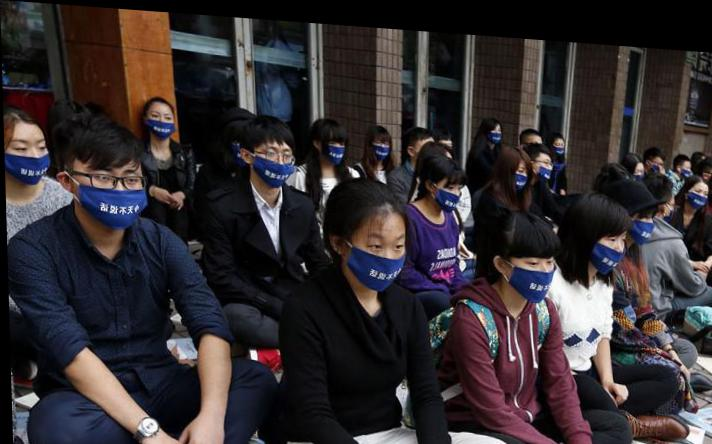OK: (85, 161, 149, 227), (349, 224, 408, 285), (503, 238, 557, 294), (6, 132, 51, 185), (628, 196, 656, 235), (435, 171, 464, 208), (148, 106, 176, 137), (510, 156, 531, 186), (323, 135, 347, 160), (686, 173, 709, 198), (372, 133, 391, 158), (678, 150, 693, 170), (650, 148, 664, 168), (489, 119, 503, 137), (553, 132, 566, 148)
WRONG: (252, 141, 295, 186), (589, 223, 629, 264), (534, 146, 553, 174)
